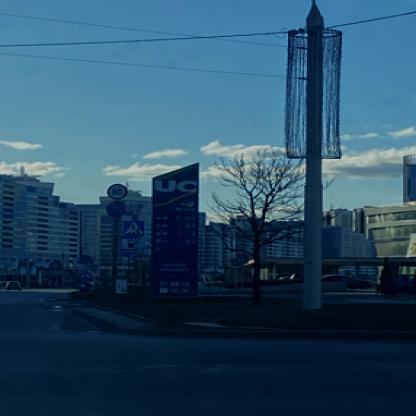crosswalk: (234, 252, 247, 264)
speedlimit: (105, 183, 124, 197)
